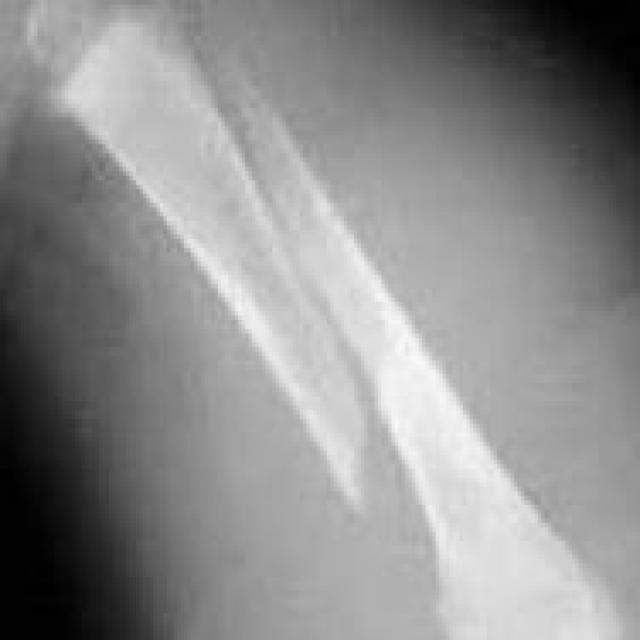Broken: (229, 55, 612, 618), (56, 11, 372, 514)
